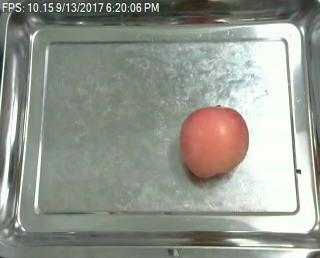apple: (180, 105, 255, 182)
